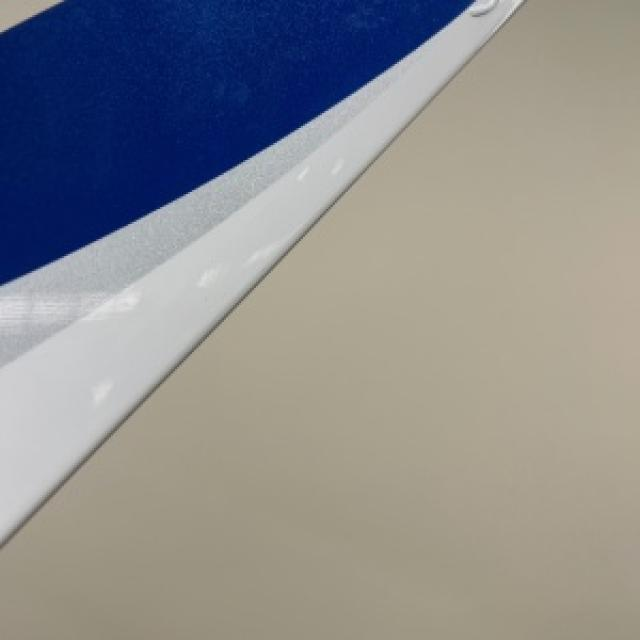healthy: (0, 0, 638, 638), (0, 0, 518, 538)
